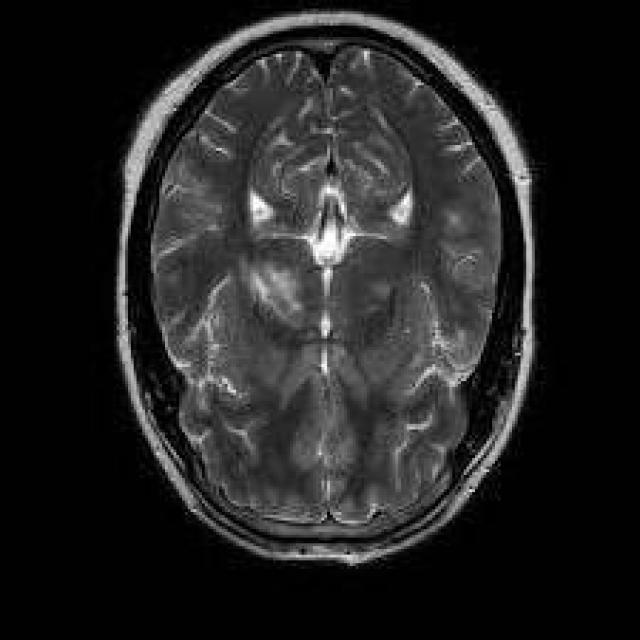notumor: (119, 9, 532, 563)
